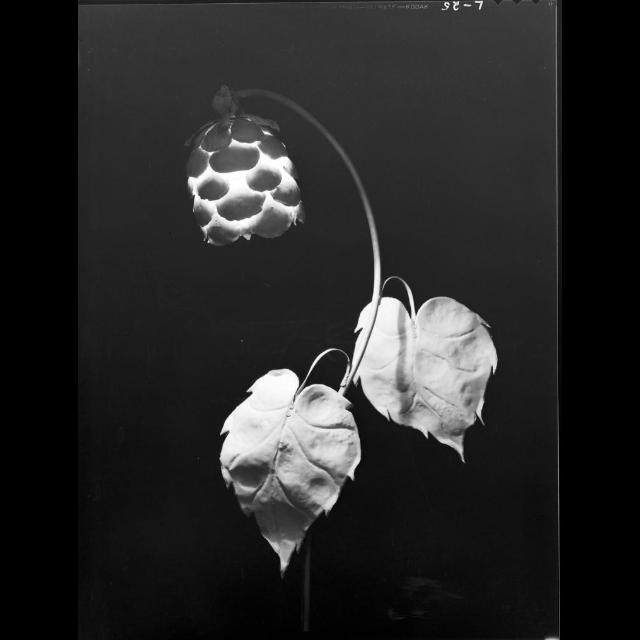Flower: (184, 79, 296, 244)
